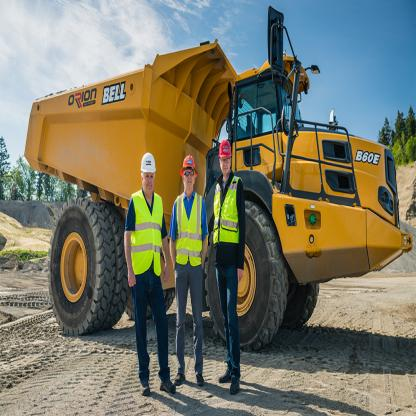dump_truck: (23, 6, 403, 358)
person: (122, 137, 176, 394), (212, 133, 256, 395), (172, 151, 208, 388)
